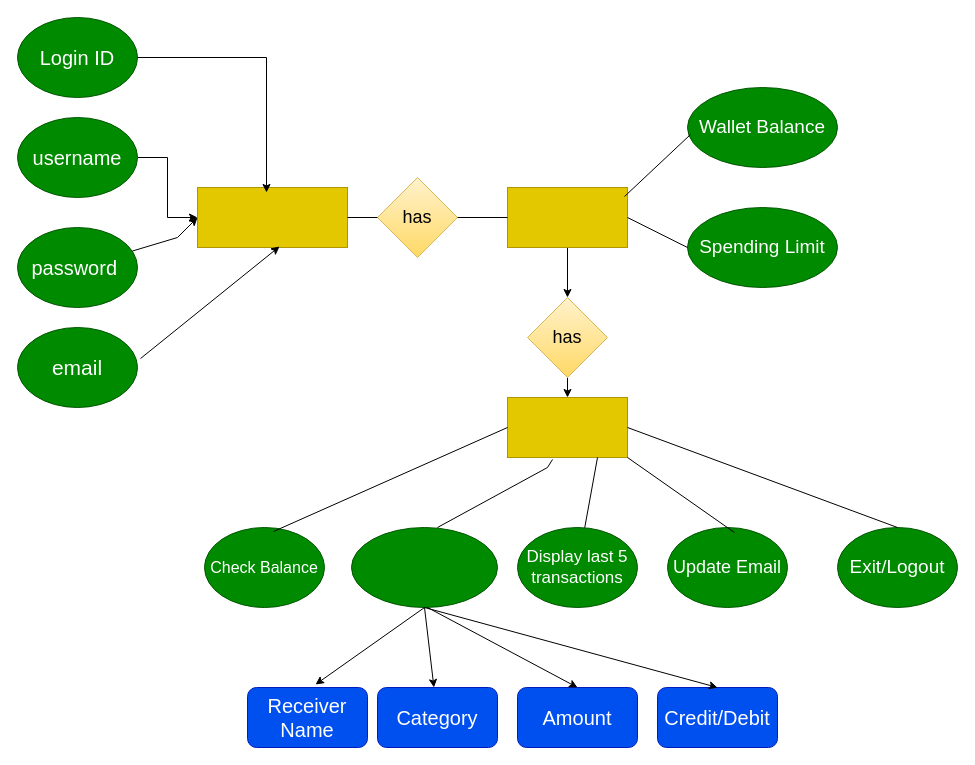
This 975x765 diagram has some shape labels left out. The centre of each missing label's shape, as x and y in pixels:
"Login/Register" belongs at (272,217).
"Perform Transaction" belongs at (424,567).
"Transaction" belongs at (567,427).
"Wallet" belongs at (567,217).
